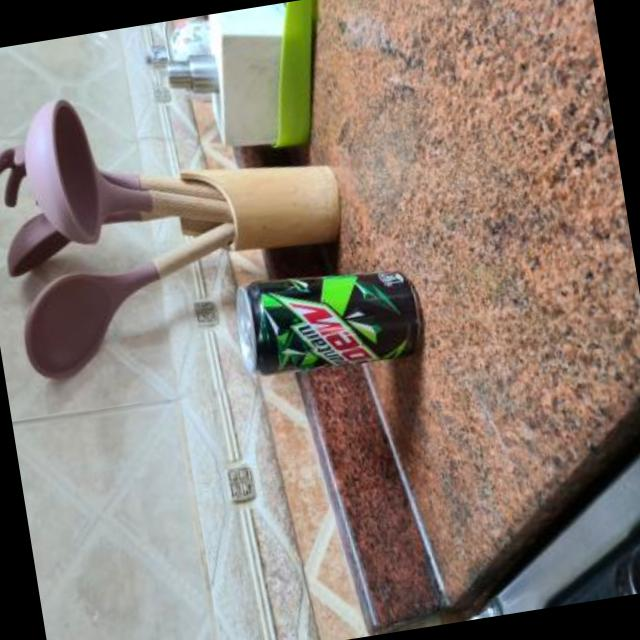metal: (238, 273, 420, 375)
